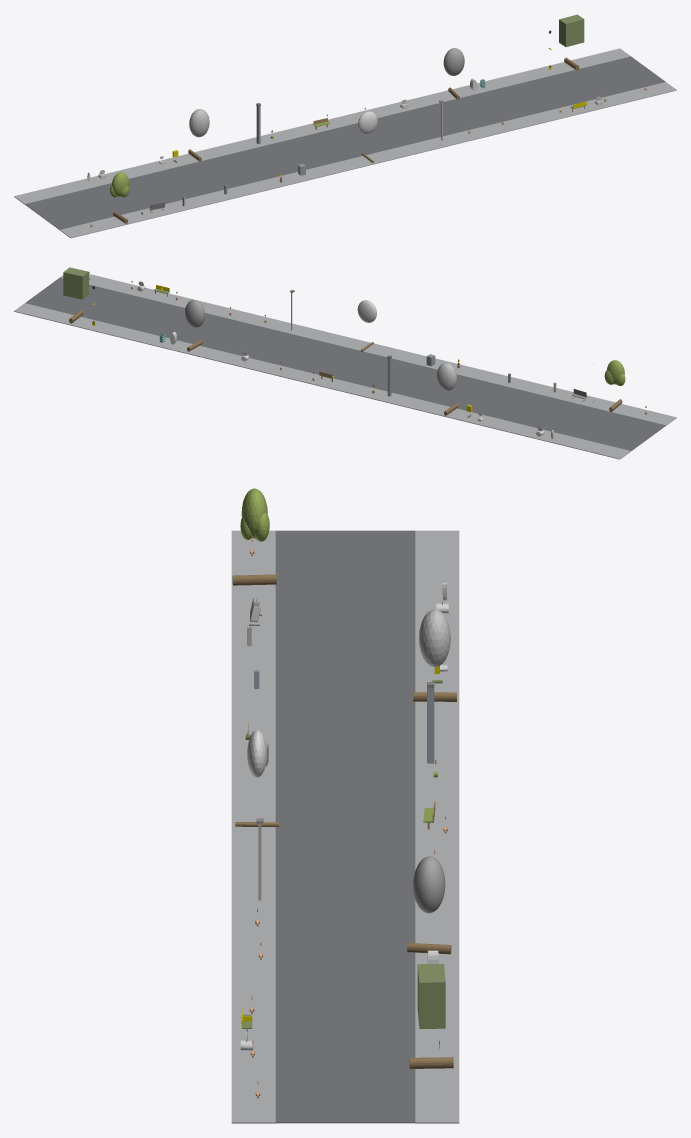
The picture shows the model from 3 angles, top to bottom: view 1: azimuth 30°, elevation 25°; view 2: azimuth 150°, elevation 25°; view 3: azimuth 270°, elevation 25°; orthographic projection. The views are drawn at different scales.
Visible parts, largest first — view 1: road_slab, sidewalk_left, sidewalk_right, inst_0016, inst_0015, inst_0013, inst_0012, inst_0014; view 2: road_slab, sidewalk_right, sidewalk_left, inst_0016, inst_0013, inst_0015, inst_0012, inst_0014; view 3: road_slab, sidewalk_left, sidewalk_right, inst_0016, inst_0015, inst_0013, inst_0012, inst_0014.
Boxes of the visible parts, x1,y1,x2,y2 form: road_slab: (25, 56, 665, 229); sidewalk_left: (60, 82, 676, 238); sidewalk_right: (14, 48, 630, 204); inst_0016: (559, 14, 584, 70); inst_0015: (443, 48, 464, 100); inst_0013: (188, 109, 209, 161); inst_0012: (110, 172, 129, 223); inst_0014: (358, 111, 377, 162); road_slab: (25, 277, 665, 450); sidewalk_right: (14, 303, 630, 459); sidewalk_left: (60, 274, 676, 425); inst_0016: (63, 267, 88, 323); inst_0013: (436, 362, 458, 415); inst_0015: (185, 300, 204, 351); inst_0012: (604, 360, 625, 411); inst_0014: (357, 300, 376, 351); road_slab: (275, 530, 415, 1123); sidewalk_left: (231, 530, 275, 1123); sidewalk_right: (415, 530, 459, 1123); inst_0016: (409, 963, 453, 1068); inst_0015: (407, 856, 451, 954); inst_0013: (413, 609, 456, 701); inst_0012: (232, 488, 276, 585); inst_0014: (235, 730, 278, 826).
Bounding box in the file's own units: 80 × 6.08 × 13.
